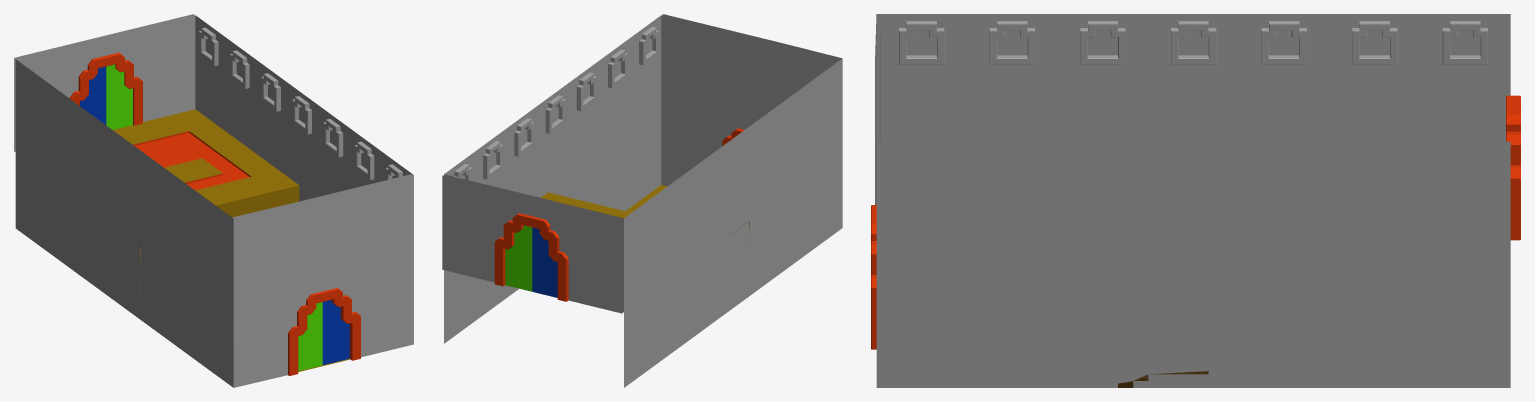
File: tutorial.fbx
3 renders of one model, left to right at view 1: azimuth 30°, elevation 25°; view 2: azimuth 150°, elevation 25°; view 3: azimuth 270°, elevation 25°, orthographic. The views are drawn at different scales.
Parts seen in each view (by area): view 1: pCube23; view 2: pCube23; view 3: pCube23.
Part boxes in pixels (<box>): pCube23: <box>14,14,413,387</box>; pCube23: <box>442,14,842,387</box>; pCube23: <box>871,14,1520,387</box>.
Size of the model in its own units: 200 by 181 by 430.
